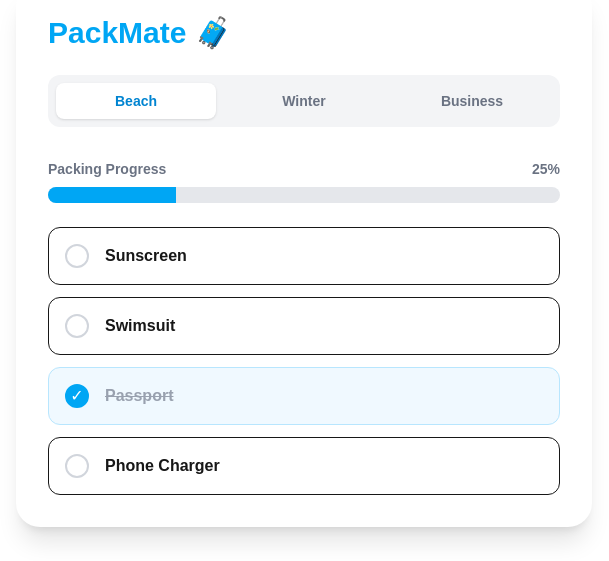
Test: PackMate Component and Page › should toggle item packed status on item click and recalculate progress
# Click Sunscreen to pack it
What coordinates should you click on to do the following:
click the text "Sunscreen"
I would click on:
 (146, 256)
Its box is [105, 244, 187, 268].
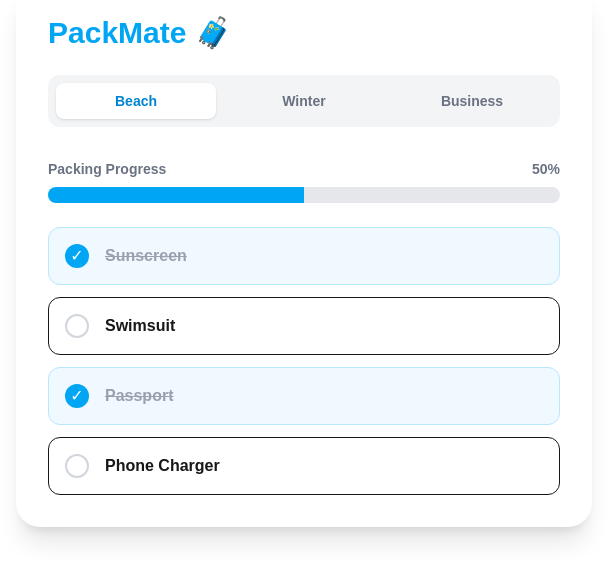
Expected: the text "50%" is shown, [532, 159, 560, 179]
# Click again to unpack
What coordinates should you click on to do the following:
click the text "Sunscreen"
I would click on:
 (146, 256)
Its box is [105, 244, 187, 268].
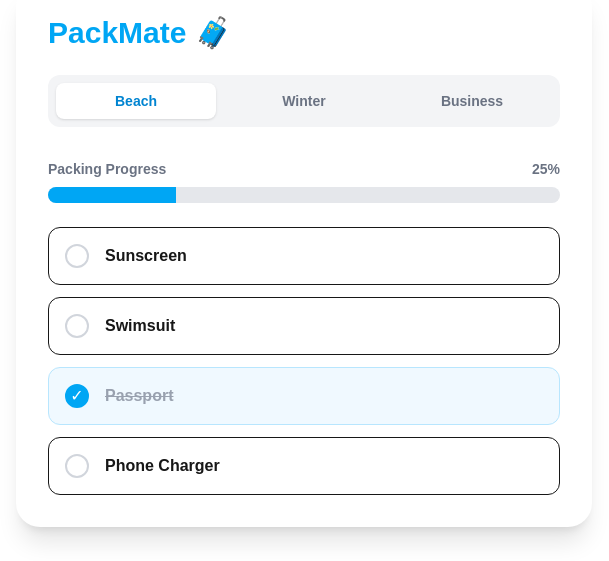
Expected: the text "25%" is shown, [532, 159, 560, 179]
